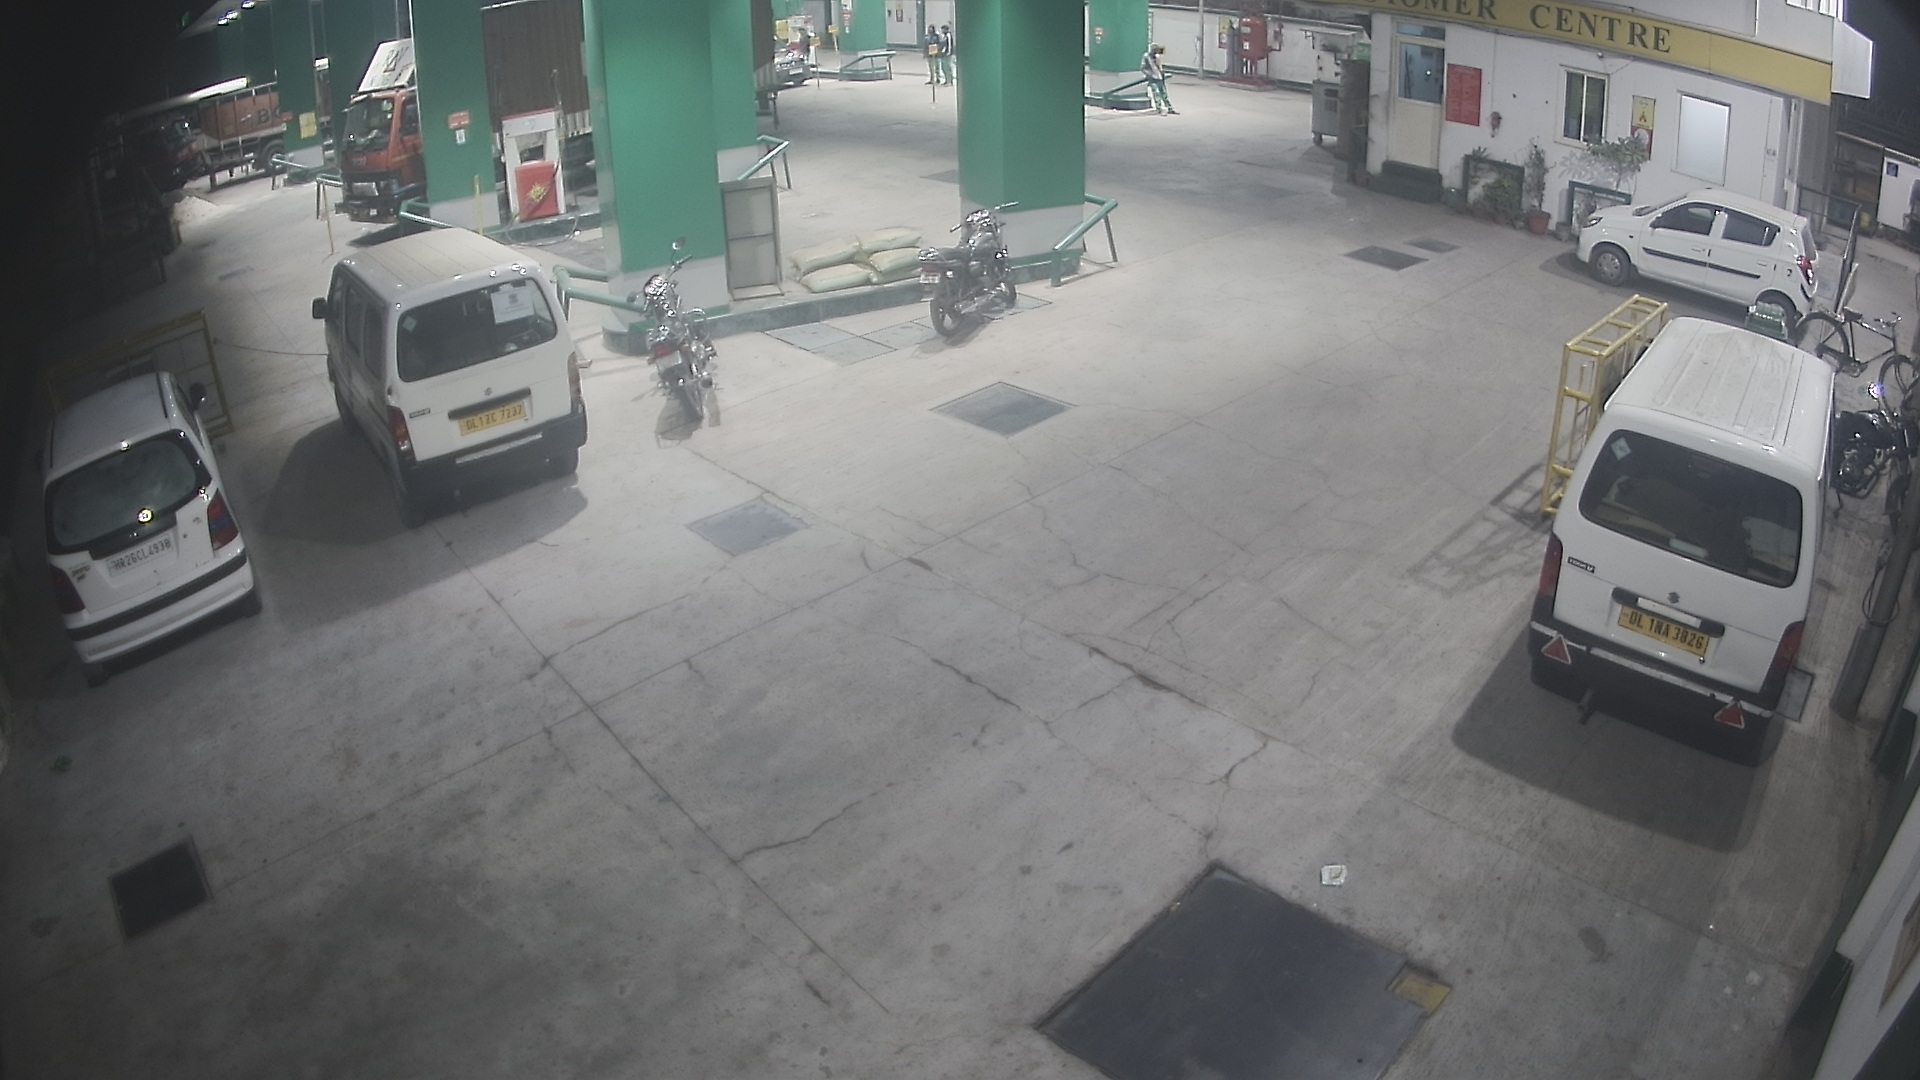Bike: (585, 227, 727, 426), (898, 181, 1033, 353), (1805, 367, 1917, 533)
Car: (1509, 315, 1892, 749), (311, 198, 603, 517), (11, 330, 270, 687), (1556, 166, 1828, 327), (757, 22, 829, 98)
HMV: (306, 13, 440, 253), (38, 55, 204, 222), (105, 62, 280, 193), (166, 53, 306, 198)
Others Other: (313, 154, 345, 276), (464, 154, 496, 251), (825, 22, 851, 92), (1151, 34, 1174, 111), (923, 34, 945, 111)
